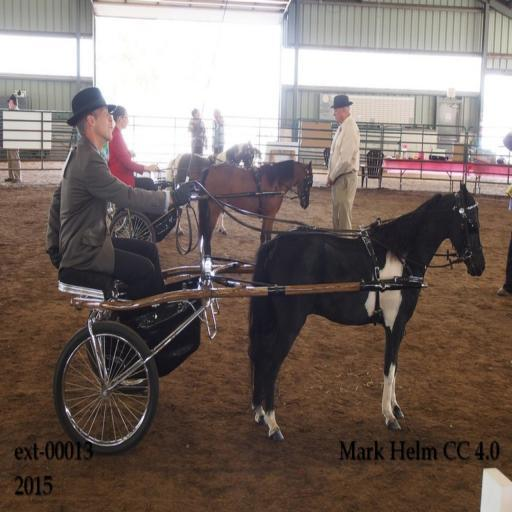horse: (246, 175, 486, 443), (192, 155, 314, 276), (170, 139, 258, 195)
